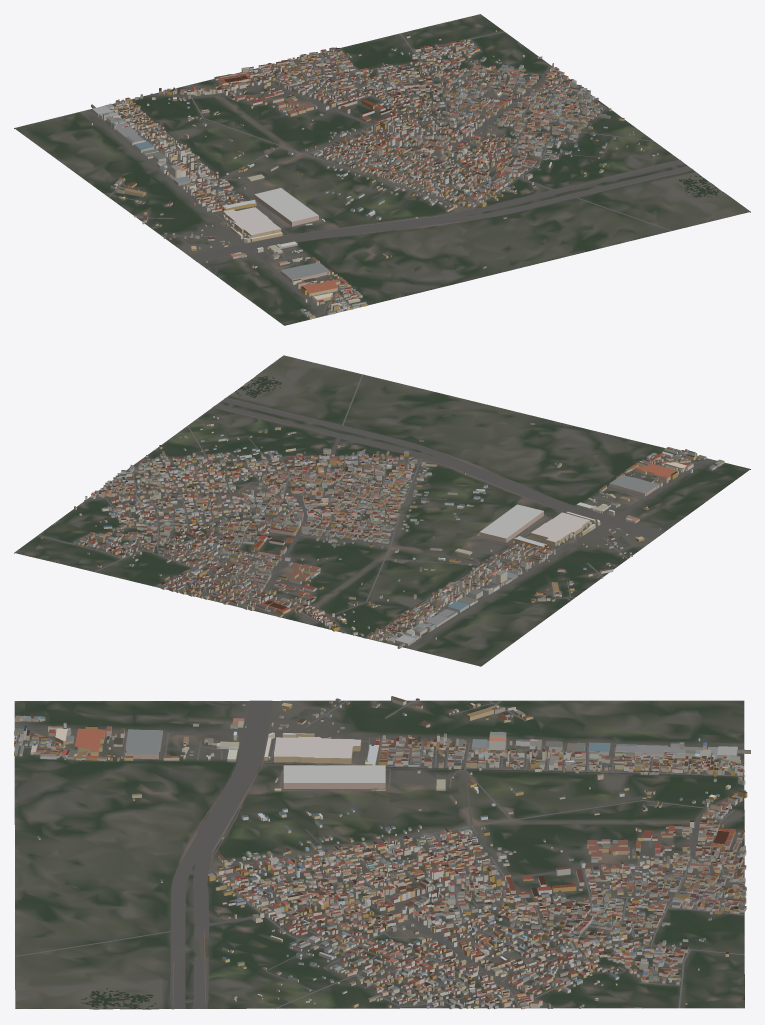
3 views of the same model, one above another, from view 1: azimuth 30°, elevation 25°; view 2: azimuth 150°, elevation 25°; view 3: azimuth 270°, elevation 25° (orthographic). The views are drawn at different scales.
Parts seen in each view (by area): view 1: ground, buildings, roads, water; view 2: ground, buildings, roads; view 3: ground, buildings, roads, water.
Boxes of the visible parts, x1=… form: ground: x1=14, y1=14, x2=750, y2=325; buildings: x1=91, y1=30, x2=658, y2=319; roads: x1=87, y1=31, x2=692, y2=315; water: x1=132, y1=101, x2=718, y2=234; ground: x1=14, y1=355, x2=750, y2=666; buildings: x1=40, y1=416, x2=724, y2=648; roads: x1=38, y1=374, x2=709, y2=648; ground: x1=14, y1=700, x2=744, y2=1009; buildings: x1=14, y1=696, x2=750, y2=1009; roads: x1=14, y1=700, x2=745, y2=1009; water: x1=81, y1=763, x2=743, y2=1008.
Size of the model in its own units: 1409 by 33.66 by 1416.
